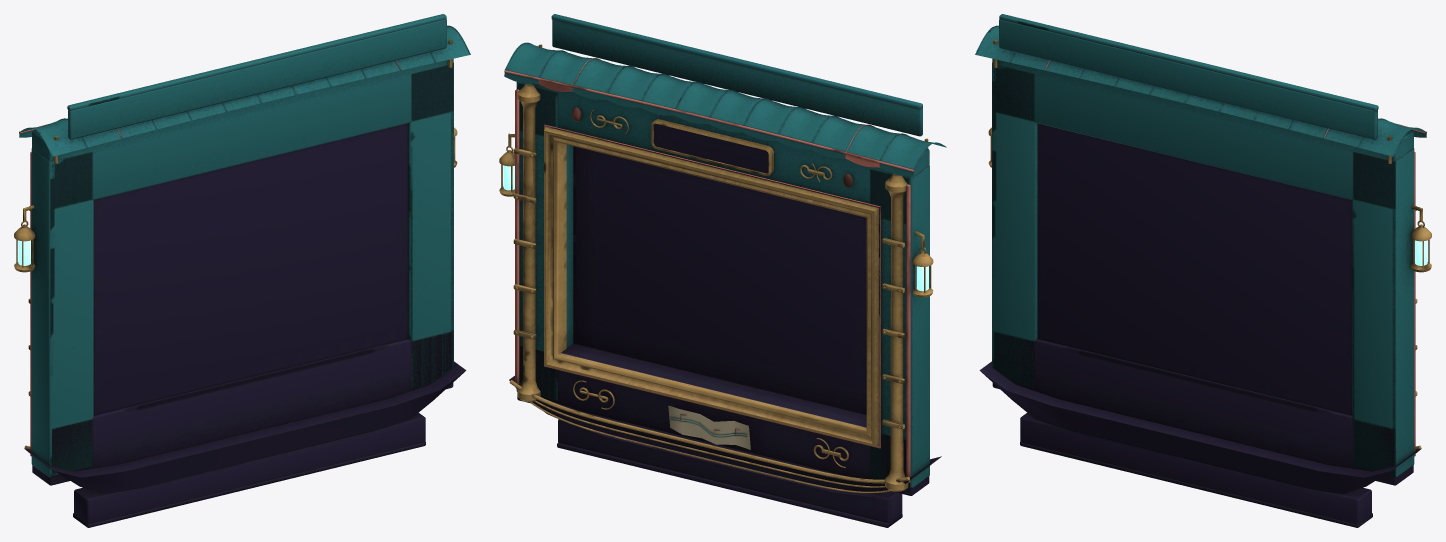
3 renders of one model, left to right at view 1: azimuth 30°, elevation 25°; view 2: azimuth 150°, elevation 25°; view 3: azimuth 330°, elevation 25°, orthographic. The views are drawn at different scales.
Visible parts, largest first — view 1: Violet_lacquer, Teal_woven_cloth_and_joinery, Antique_lock_brass, Coral_enamel_and_stitching; view 2: Violet_lacquer, Teal_woven_cloth_and_joinery, Antique_lock_brass, Coral_enamel_and_stitching, Warm_chart_parchment, Canal_lantern_glow; view 3: Violet_lacquer, Teal_woven_cloth_and_joinery, Antique_lock_brass, Coral_enamel_and_stitching.
Boxes of the visible parts, box(x1,y1,x2,y2) form: Violet_lacquer: box(24, 123, 466, 527); Teal_woven_cloth_and_joinery: box(19, 14, 470, 477); Antique_lock_brass: box(14, 39, 457, 449); Coral_enamel_and_stitching: box(19, 60, 400, 456); Violet_lacquer: box(509, 123, 941, 527); Teal_woven_cloth_and_joinery: box(504, 14, 946, 487); Antique_lock_brass: box(499, 44, 933, 493); Coral_enamel_and_stitching: box(504, 58, 914, 483); Warm_chart_parchment: box(668, 405, 750, 449); Canal_lantern_glow: box(503, 165, 928, 291); Violet_lacquer: box(979, 123, 1421, 527); Teal_woven_cloth_and_joinery: box(975, 14, 1426, 477); Antique_lock_brass: box(988, 39, 1431, 449); Coral_enamel_and_stitching: box(1045, 60, 1426, 456).
Bounding box in the file's own units: 11.44 × 10.6 × 1.59.
Materials: 6 (5 with a texture image).
